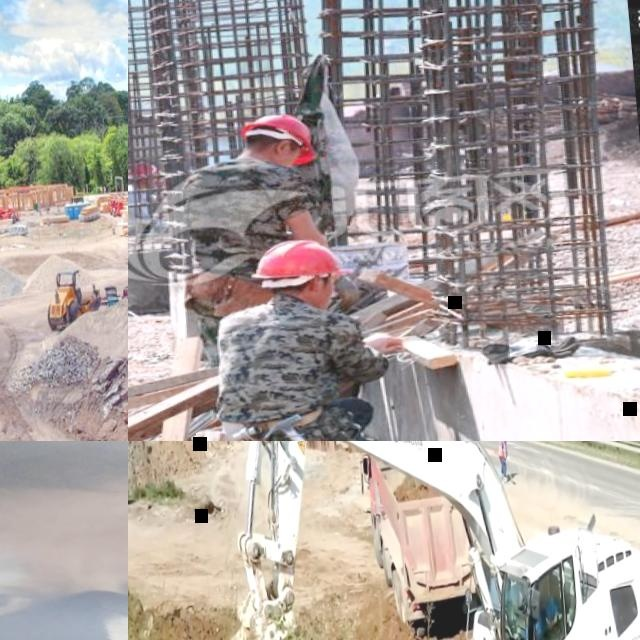Hardhat: (251, 231, 356, 290), (238, 110, 319, 173), (128, 156, 163, 179)
Mask: (0, 575, 128, 640)
NO-Hardhat: (0, 441, 128, 573)
NO-Mask: (269, 147, 299, 170), (314, 287, 334, 310)
NO-Safety Vest: (207, 296, 361, 441), (164, 153, 304, 286), (128, 188, 158, 237), (544, 601, 556, 626)
Person: (193, 231, 436, 441), (167, 106, 335, 349), (0, 441, 128, 640), (128, 157, 171, 245), (519, 581, 559, 640), (496, 441, 512, 481)
Safety Vest: (496, 441, 505, 458)
machinery: (195, 441, 640, 640), (359, 441, 482, 639), (44, 265, 108, 333)
